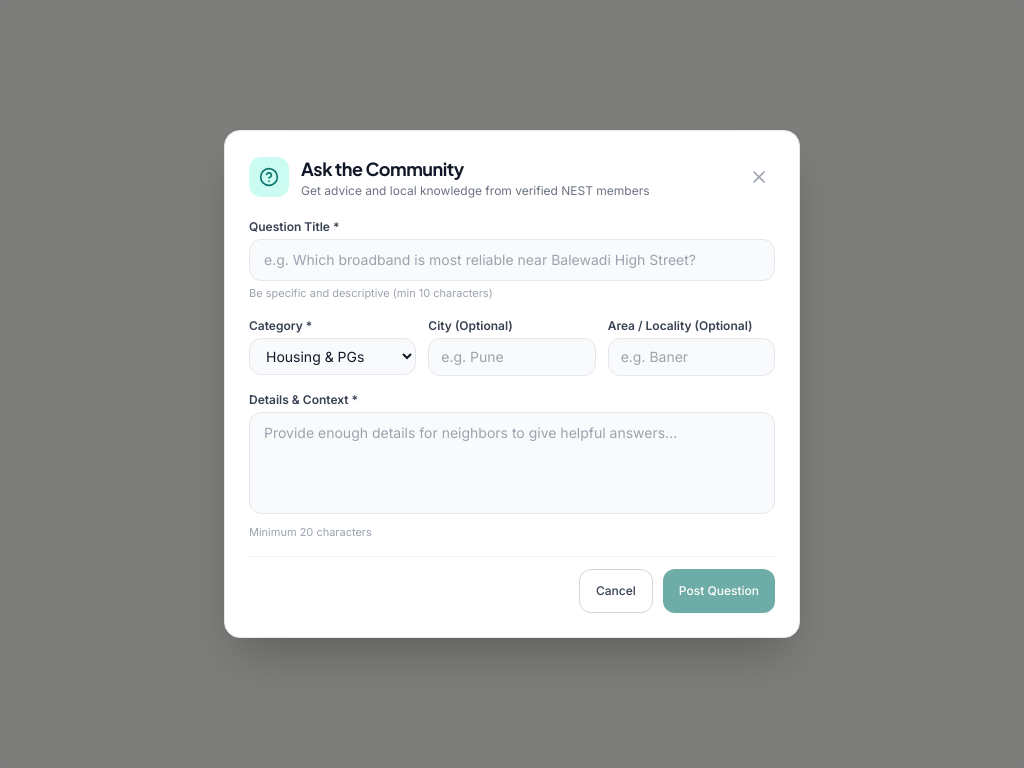
Test: Phase 12: Community Intelligence › AskQuestionModal › displays field-level validation errors cleanly when backend returns 422 errors
This screenshot has width=1024, height=768.
Replace the text in the field with placeholder "Which broadband is most reliable" with "Valid question title for community": [512, 260] box [249,239,775,281]
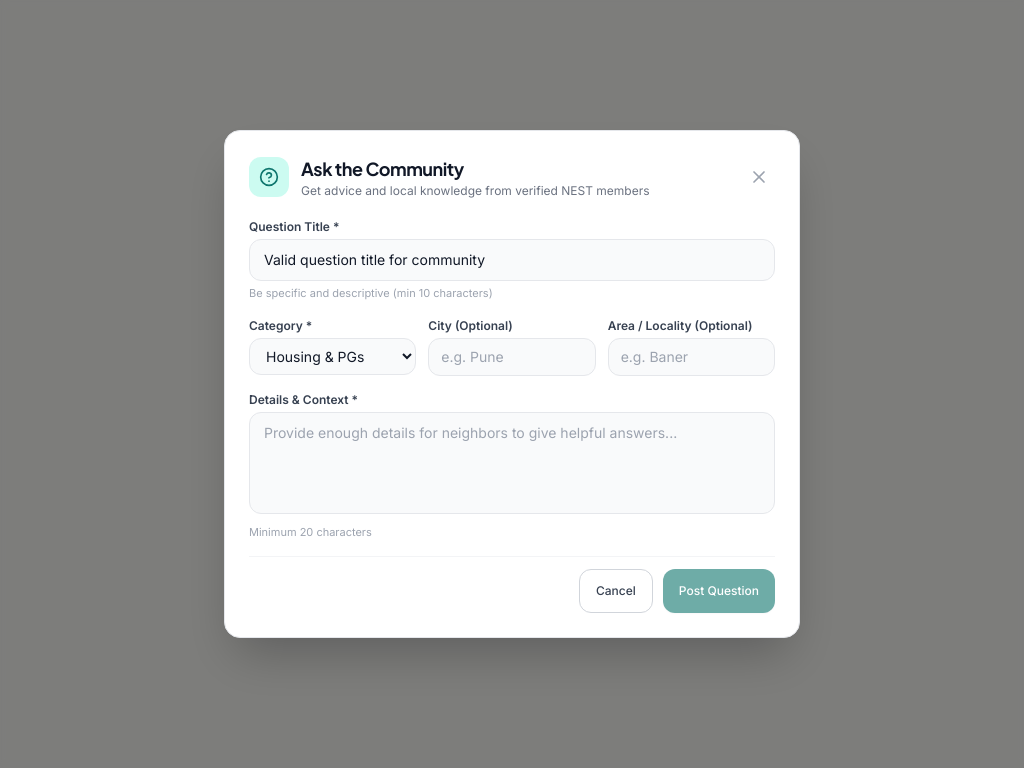
Replace the text in the text box with placeholder "Provide enough details" with "This is a detailed description of the community requirement.": [512, 462] box [249,412,775,514]
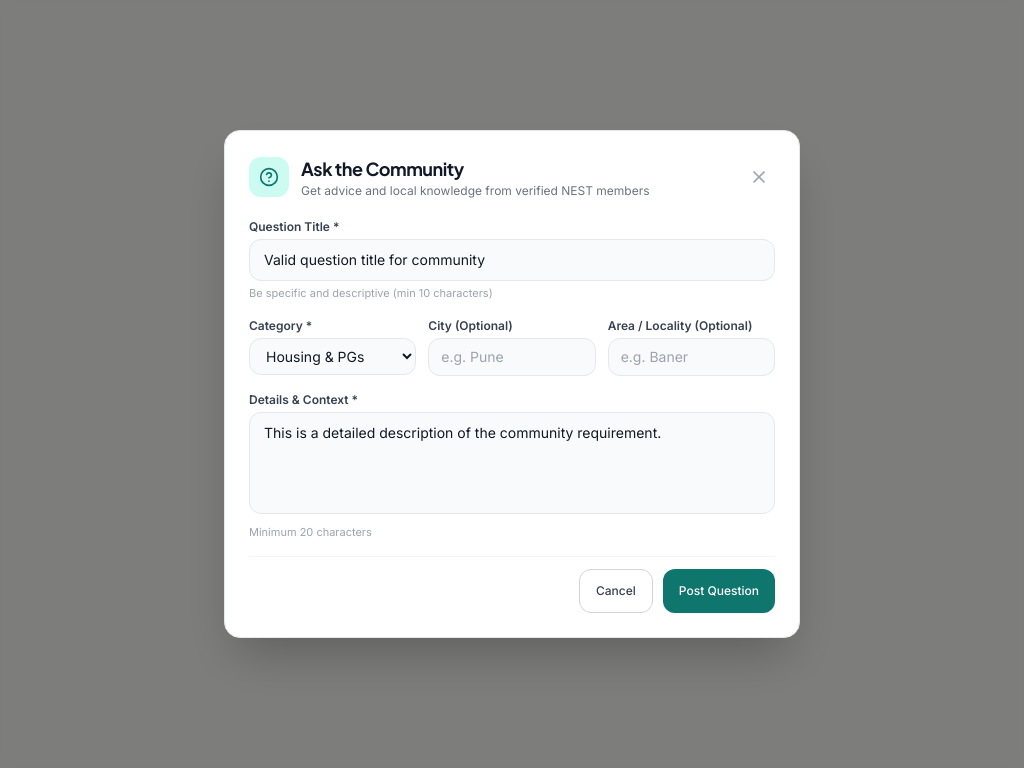
Click the button "Post Question": [719, 591] box [663,569,775,613]
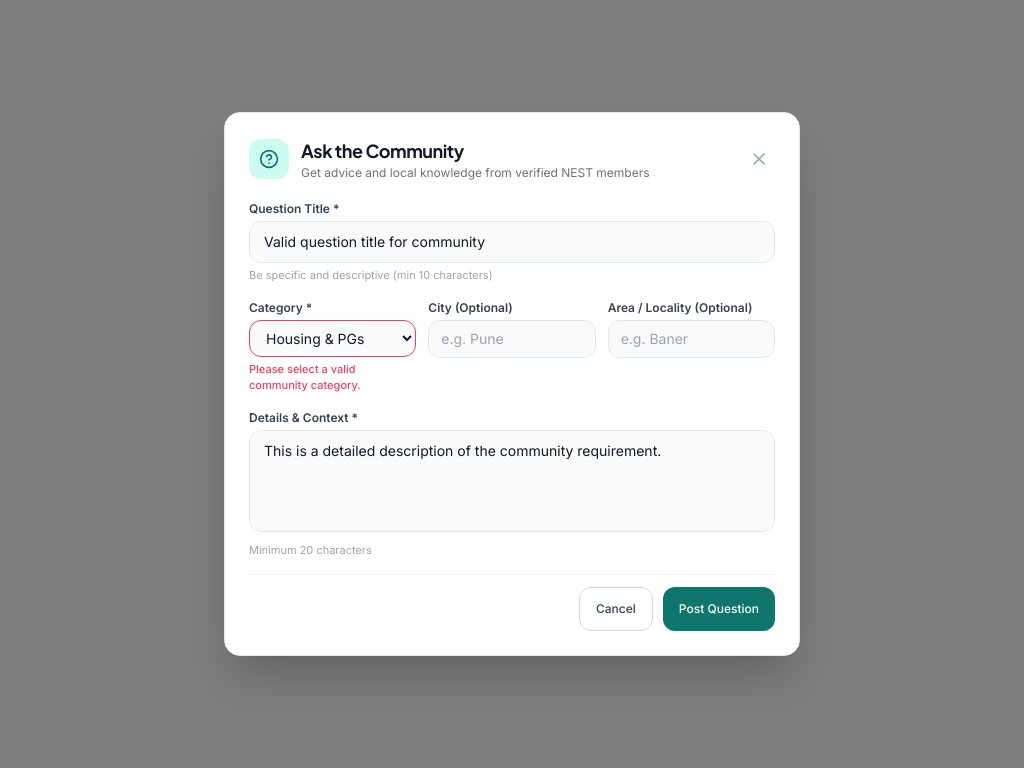
Expected: the text "Please select a valid community category." is shown, [249,362,361,392]
